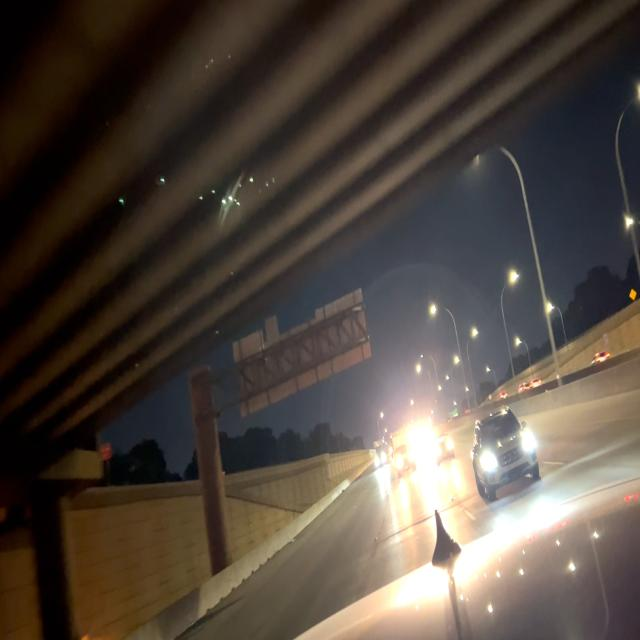back-of-sign: (231, 287, 373, 417)
